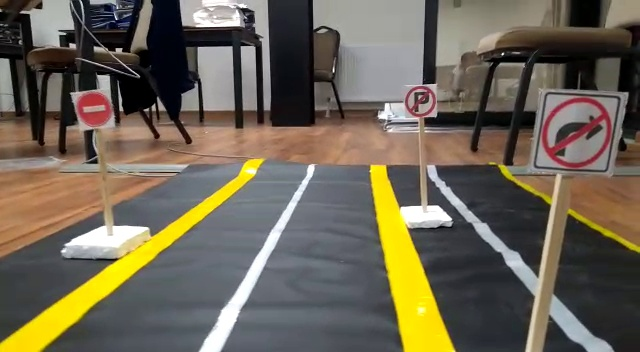girisi_olmayan_yol: (76, 90, 112, 130)
park_yapilmaz: (403, 83, 437, 119)
saga_donulmez: (543, 93, 612, 175)
